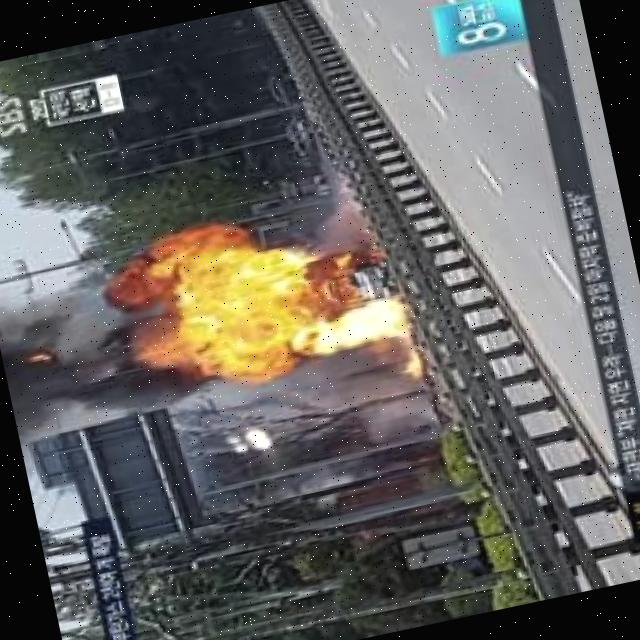fire: (91, 188, 405, 409)
